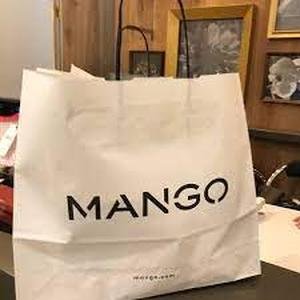mango: (58, 177, 229, 221)
